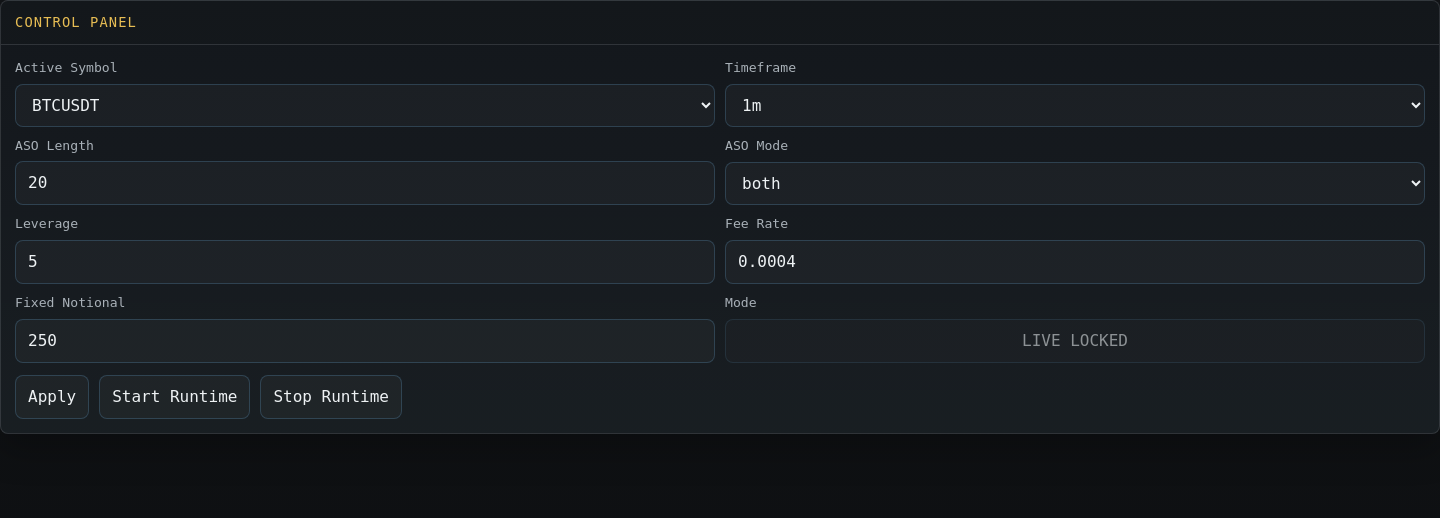
Test: release-gate operator UI › applies settings successfully and renders success feedback
The image size is (1440, 518).
Select "5m" in the dropdown named "Timeframe" at point(1075, 105), box [725,84,1425,127]
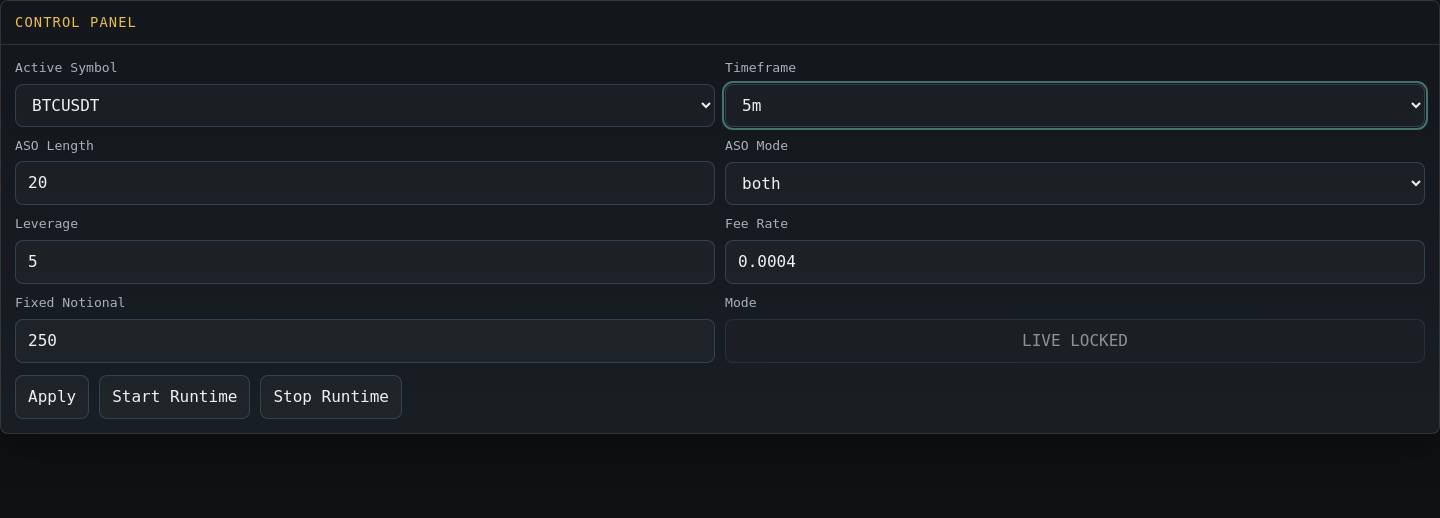
Click the button "Apply" at point(52, 397), box [15,375,89,419]
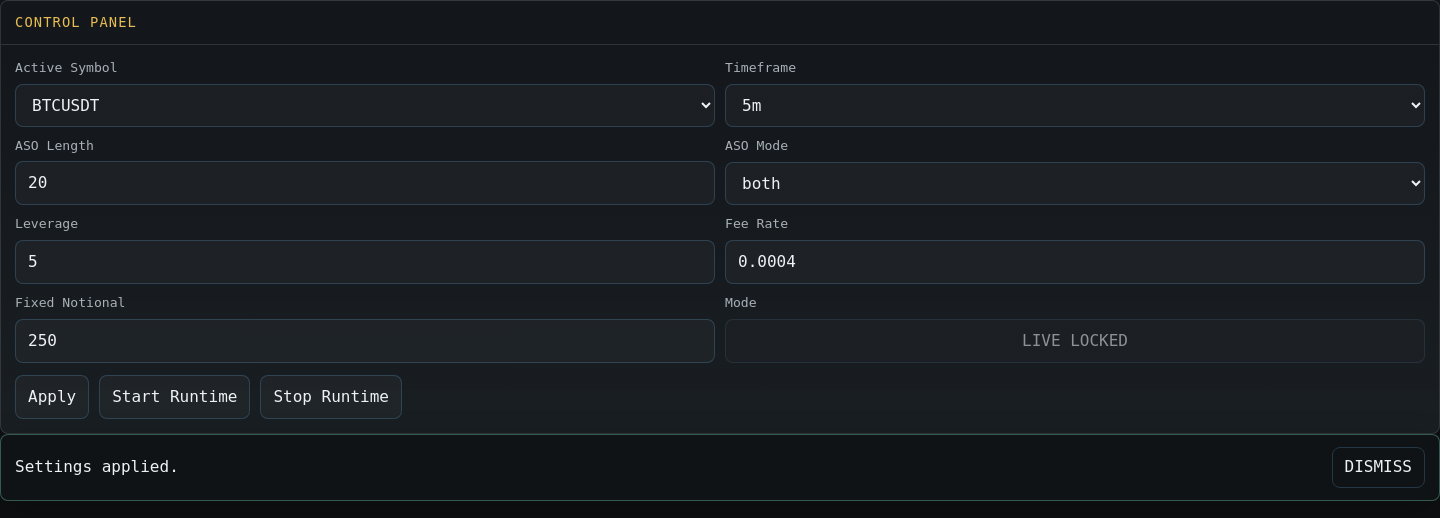
Expected: the text "Settings applied." is shown, [15,457,179,476]
